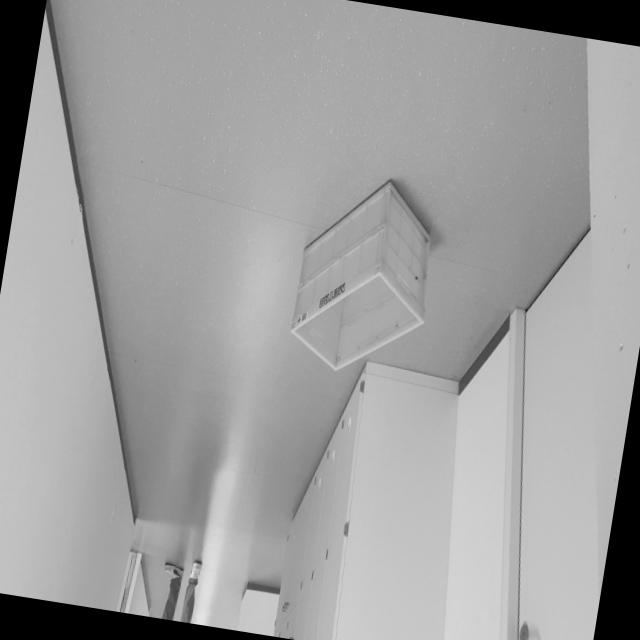box: (278, 156, 450, 404)
